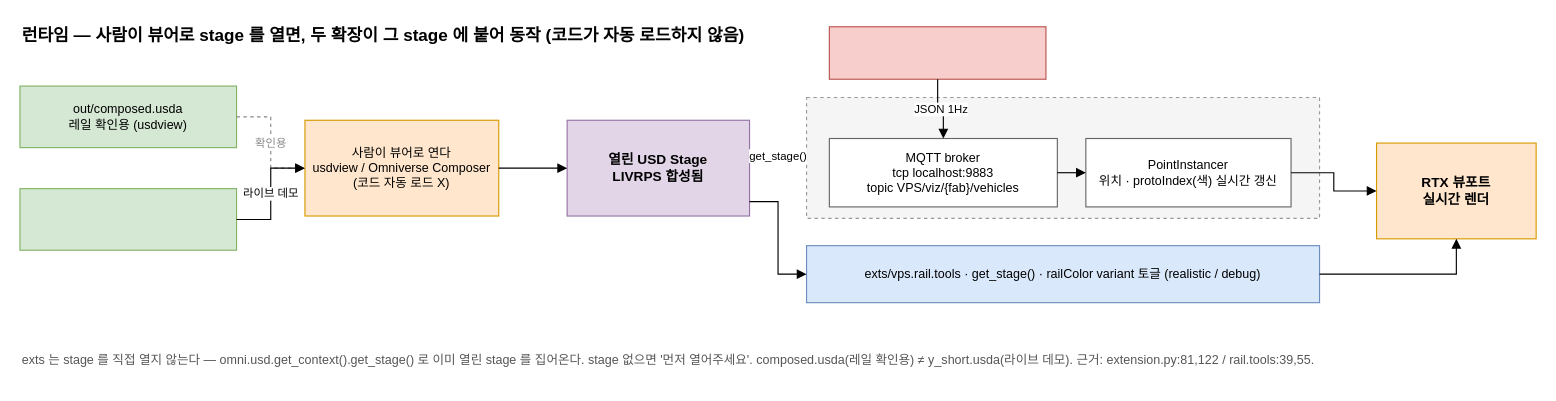
The diagram is 1556 pixels wide and 401 high, and some of its shapes have lost their labels. Each missing label, with the box of its shape:
exts/vps.live.viz · get_stage() 로 열린 stage 사용: (805, 96, 1320, 218)
VPS 시뮬레이터 차량 스냅샷 발행: (828, 26, 1046, 79)
y_short.usda 라이브 데모 스테이지: (19, 188, 237, 250)
